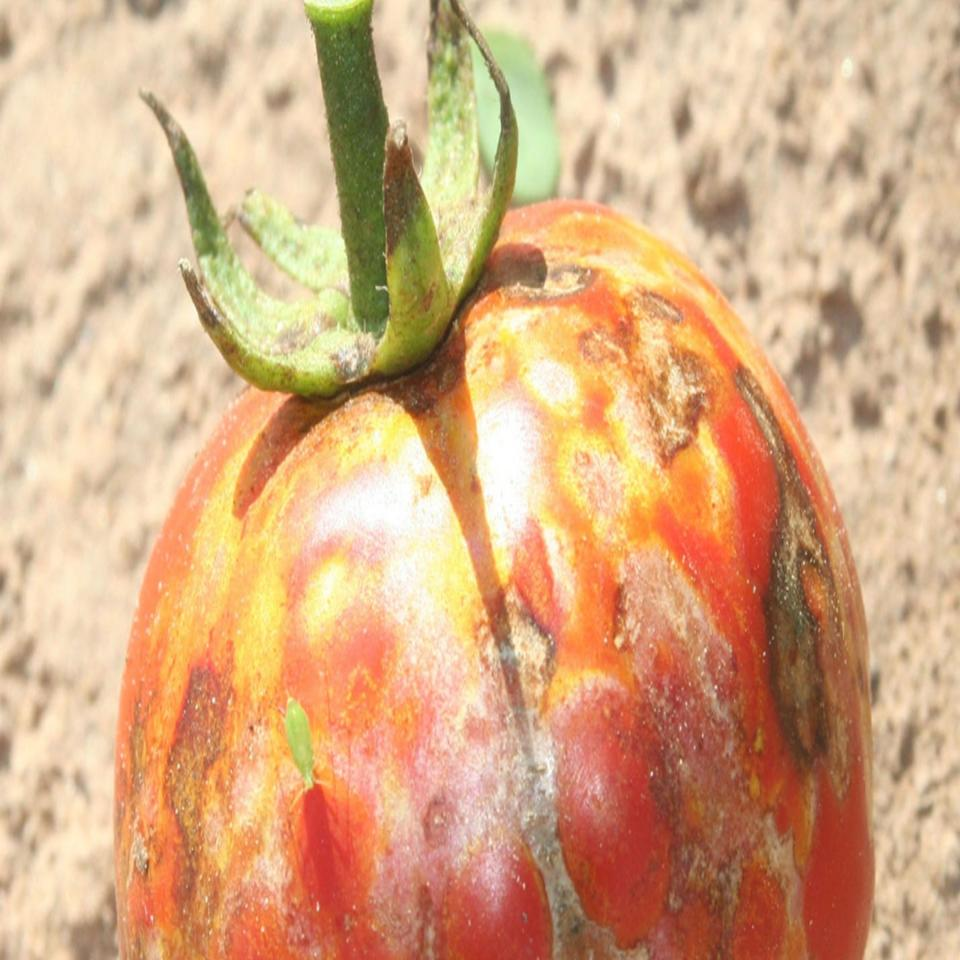Spotted wilt Virus: (115, 199, 876, 960)
